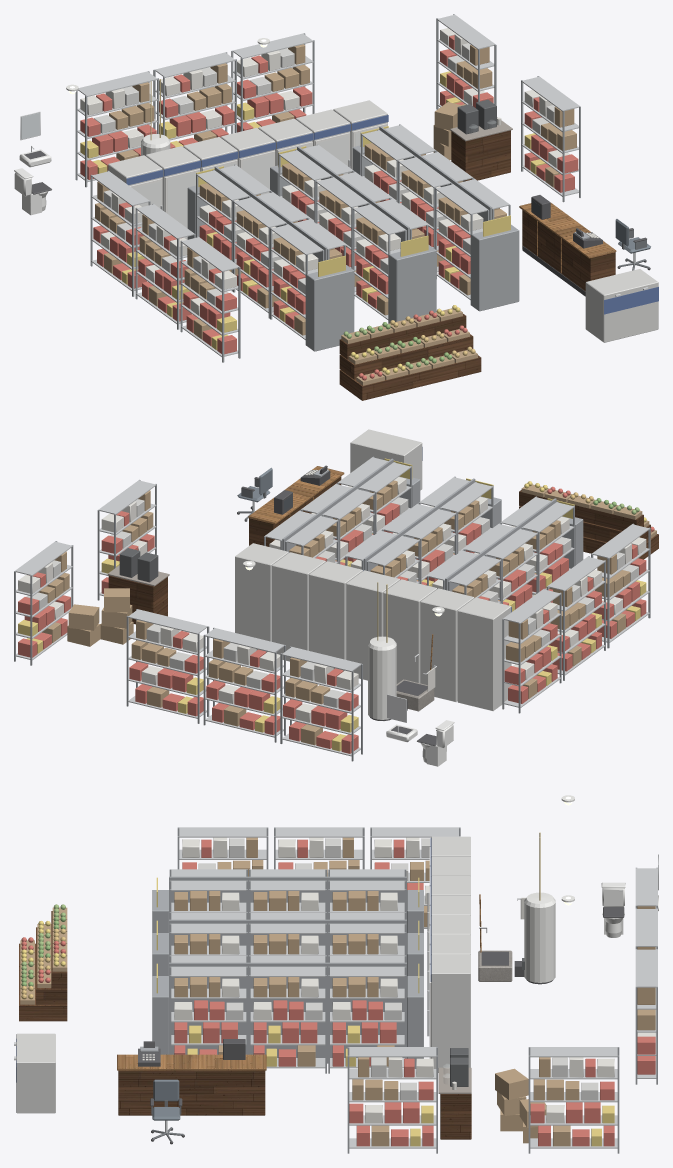
The model's file is shop_grocery.glb.
The picture shows the model from 3 angles, top to bottom: view 1: azimuth 30°, elevation 25°; view 2: azimuth 150°, elevation 25°; view 3: azimuth 270°, elevation 25°; orthographic projection. The views are drawn at different scales.
Parts seen in each view (by area): view 1: shop_grocery_metal, shop_grocery_steel, shop_grocery_food_r, shop_grocery_basket, shop_grocery_cart_w, shop_grocery_dkwood, shop_grocery_paper, shop_grocery_food_y, shop_grocery_frame, shop_grocery_flag_b, shop_grocery_glass, shop_grocery_wood (+4 smaller); view 2: shop_grocery_cart_w, shop_grocery_metal, shop_grocery_basket, shop_grocery_food_r, shop_grocery_steel, shop_grocery_paper, shop_grocery_dkwood, shop_grocery_food_y, shop_grocery_paint_w, shop_grocery_wood, shop_grocery_dark, shop_grocery_porcelain (+3 smaller); view 3: shop_grocery_metal, shop_grocery_steel, shop_grocery_basket, shop_grocery_cart_w, shop_grocery_food_r, shop_grocery_dkwood, shop_grocery_paper, shop_grocery_paint_w, shop_grocery_food_y, shop_grocery_wood, shop_grocery_dark, shop_grocery_porcelain (+5 smaller).
Boxes of the visible parts, x1,y1,x2,y2 form: shop_grocery_metal: (77,14,579,356); shop_grocery_steel: (75,14,589,362); shop_grocery_food_r: (80,35,578,380); shop_grocery_basket: (95,44,576,385); shop_grocery_cart_w: (94,43,658,342); shop_grocery_dkwood: (339,130,615,400); shop_grocery_paper: (80,28,598,315); shop_grocery_food_y: (80,71,546,374); shop_grocery_frame: (130,123,387,239); shop_grocery_flag_b: (126,115,658,314); shop_grocery_glass: (134,120,495,238); shop_grocery_wood: (519,203,616,273); shop_grocery_cart_w: (26,429,638,710); shop_grocery_metal: (15,457,649,756); shop_grocery_basket: (38,480,656,745); shop_grocery_food_r: (18,486,654,753); shop_grocery_steel: (14,456,650,761); shop_grocery_paper: (18,470,646,722); shop_grocery_dkwood: (108,476,658,624); shop_grocery_food_y: (18,458,646,751); shop_grocery_paint_w: (243,561,444,719); shop_grocery_wood: (248,466,433,670); shop_grocery_dark: (237,465,436,745); shop_grocery_porcelain: (386,720,454,766); shop_grocery_metal: (171,827,657,1148); shop_grocery_steel: (140,827,657,1153); shop_grocery_basket: (20,837,655,1146); shop_grocery_cart_w: (16,836,598,1113); shop_grocery_food_r: (21,839,655,1146); shop_grocery_dkwood: (19,911,471,1139); shop_grocery_paper: (142,837,655,1123); shop_grocery_paint_w: (524,795,574,982); shop_grocery_food_y: (21,877,614,1146); shop_grocery_wood: (117,894,481,1070); shop_grocery_dark: (138,907,624,1144); shop_grocery_porcelain: (601,882,658,937).
Bounding box in the file's own units: 9.56 × 2.82 × 11.39.
Materials: 29 (3 with a texture image).
